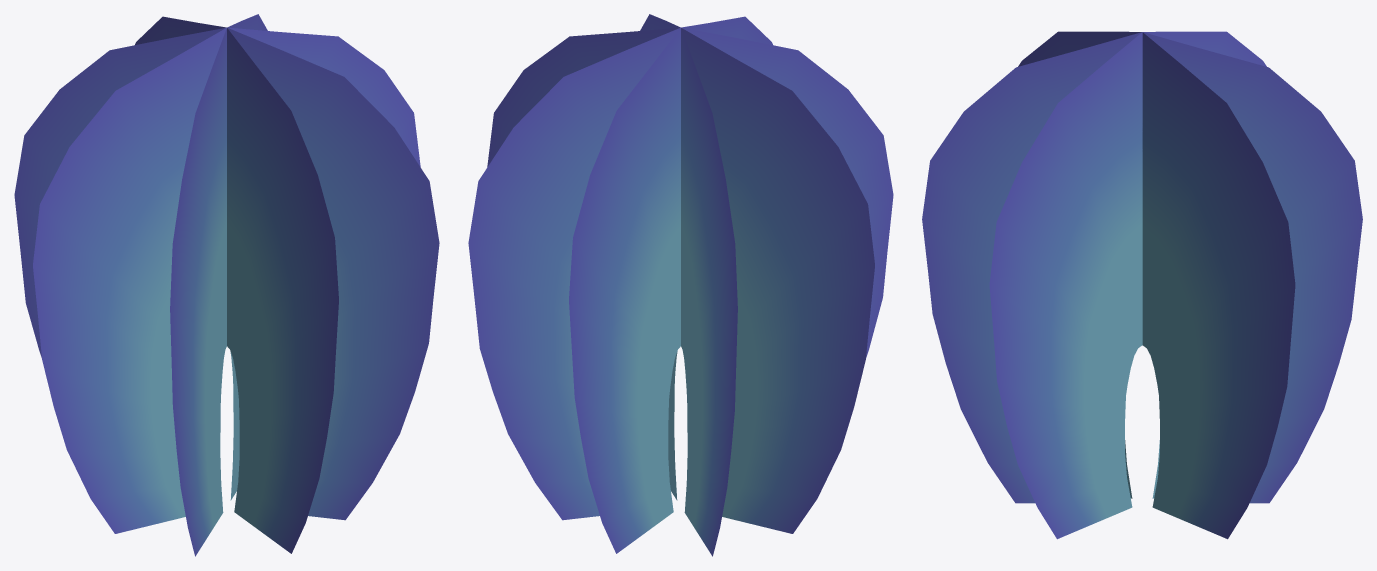
Rendered from Aura001_2.fbx.
3 views of the same model, side by side, from view 1: azimuth 30°, elevation 25°; view 2: azimuth 150°, elevation 25°; view 3: azimuth 270°, elevation 25° (orthographic).
Parts seen in each view (by area): view 1: SM_e_Useful_Aura0010_02; view 2: SM_e_Useful_Aura0010_02; view 3: SM_e_Useful_Aura0010_02.
Boxes of the visible parts, left/top/right/bottom form: SM_e_Useful_Aura0010_02: left=14, top=14, right=439, bottom=556; SM_e_Useful_Aura0010_02: left=468, top=14, right=893, bottom=556; SM_e_Useful_Aura0010_02: left=922, top=31, right=1362, bottom=539.
Size of the model in its own units: 307 by 362 by 307.
